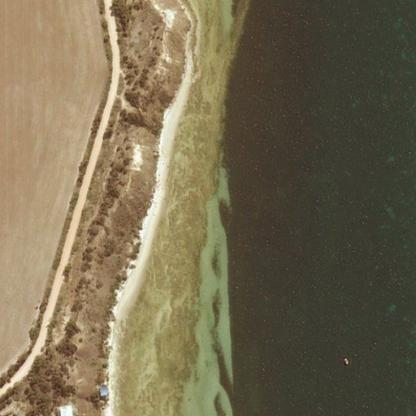ship: (343, 357, 348, 365)
